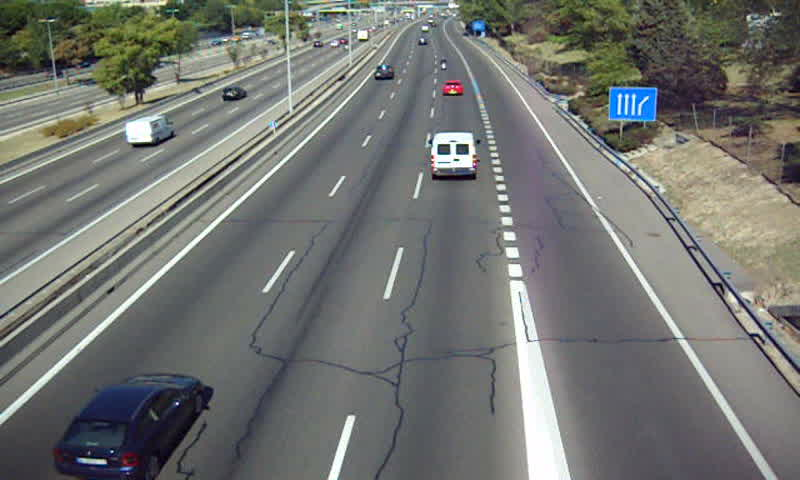car: (54, 374, 205, 480), (443, 79, 465, 97), (374, 64, 395, 81)
motorcycle: (440, 58, 449, 72)
van: (431, 132, 477, 176)
